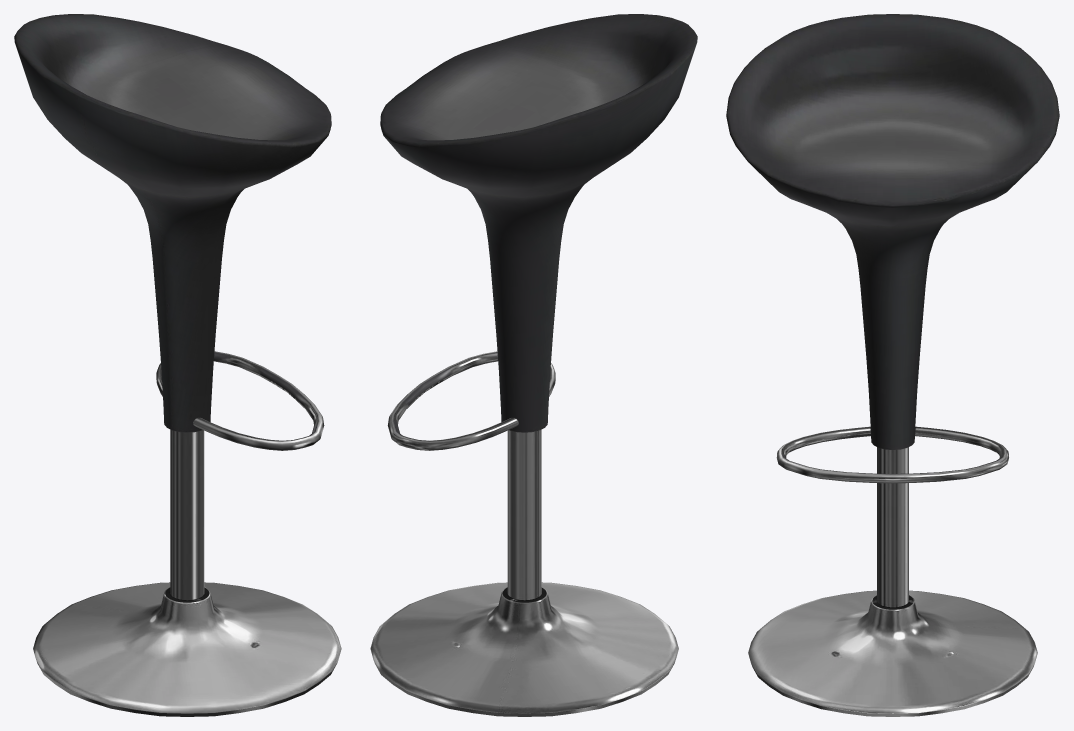
The picture shows the model from 3 angles, left to right: view 1: azimuth 30°, elevation 25°; view 2: azimuth 150°, elevation 25°; view 3: azimuth 270°, elevation 25°; orthographic projection. The views are drawn at different scales.
Parts seen in each view (by area): view 1: Bombo_Stools; view 2: Bombo_Stools; view 3: Bombo_Stools.
Part boxes in pixels (x1,y1,x2,y2): Bombo_Stools: (14, 14, 341, 716); Bombo_Stools: (370, 14, 697, 716); Bombo_Stools: (726, 14, 1059, 716).
Bounding box in the file's own units: 0.7519 × 1.58 × 0.83.
Materials: 1 (1 with a texture image).
